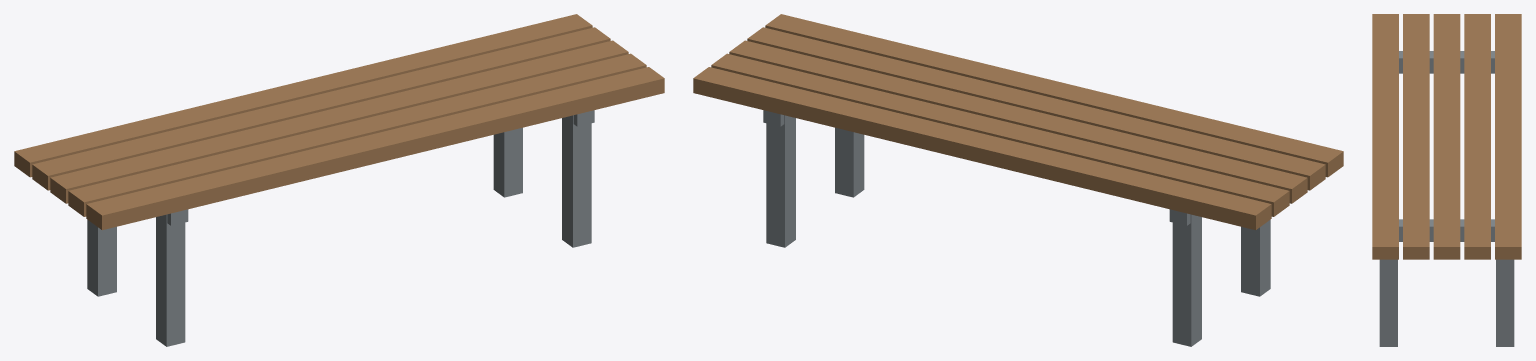
Rendered from PublicBench.glb.
The picture shows the model from 3 angles, left to right: view 1: azimuth 30°, elevation 25°; view 2: azimuth 150°, elevation 25°; view 3: azimuth 270°, elevation 25°; orthographic projection. The views are drawn at different scales.
Visible parts, largest first — view 1: ST_PublicBench_PBK_Indochine_wood.001, ST_PublicBench_PBK_Indochine_metal.001; view 2: ST_PublicBench_PBK_Indochine_wood.001, ST_PublicBench_PBK_Indochine_metal.001; view 3: ST_PublicBench_PBK_Indochine_wood.001, ST_PublicBench_PBK_Indochine_metal.001.
Boxes of the visible parts, x1,y1,x2,y2 form: ST_PublicBench_PBK_Indochine_wood.001: (14, 14, 664, 230); ST_PublicBench_PBK_Indochine_metal.001: (87, 110, 594, 346); ST_PublicBench_PBK_Indochine_wood.001: (693, 14, 1343, 230); ST_PublicBench_PBK_Indochine_metal.001: (763, 110, 1270, 346); ST_PublicBench_PBK_Indochine_wood.001: (1372, 14, 1521, 259); ST_PublicBench_PBK_Indochine_metal.001: (1379, 51, 1514, 346).
Bounding box in the file's own units: 1.8 × 0.4625 × 0.487.
